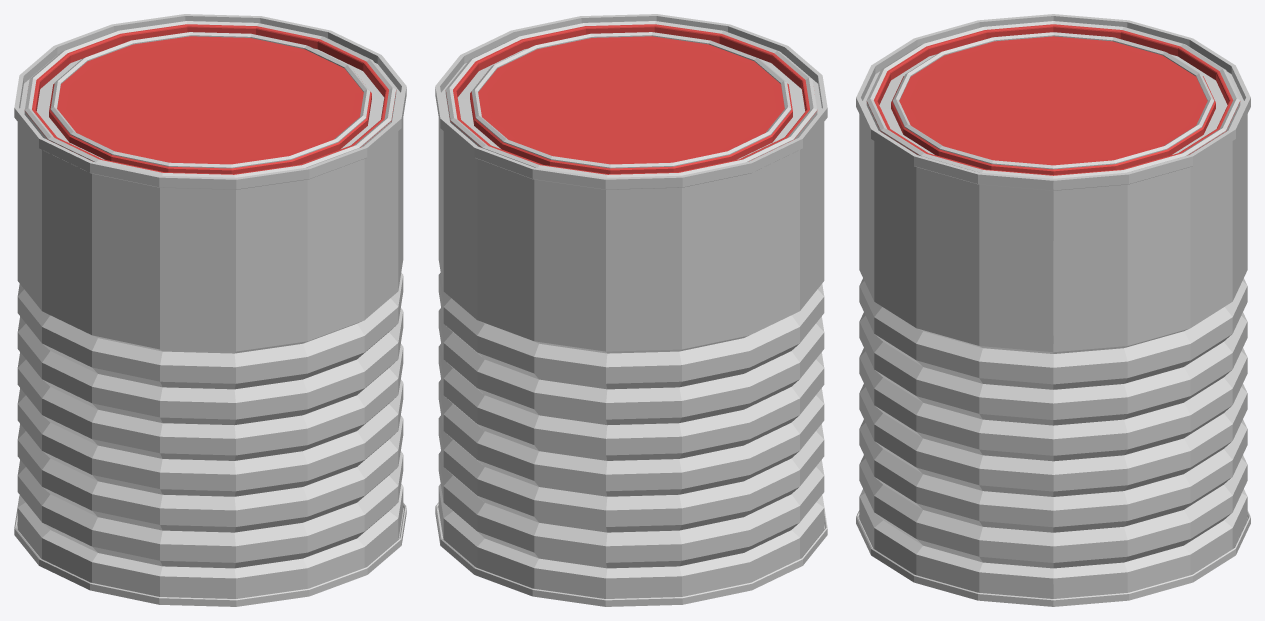
The model's file is can-paint-tin-tall-2.glb.
The picture shows the model from 3 angles, left to right: view 1: azimuth 30°, elevation 25°; view 2: azimuth 150°, elevation 25°; view 3: azimuth 270°, elevation 25°; orthographic projection.
Parts seen in each view (by area): view 1: can, top-paintable; view 2: can, top-paintable; view 3: can, top-paintable.
Part boxes in pixels (left/top/right/bottom): can: left=14, top=14, right=406, bottom=606; top-paintable: left=25, top=24, right=396, bottom=174; can: left=435, top=14, right=827, bottom=606; top-paintable: left=445, top=24, right=816, bottom=174; can: left=856, top=14, right=1250, bottom=606; top-paintable: left=866, top=24, right=1240, bottom=175.
Size of the model in its own units: 0.108 by 0.1286 by 0.108.
